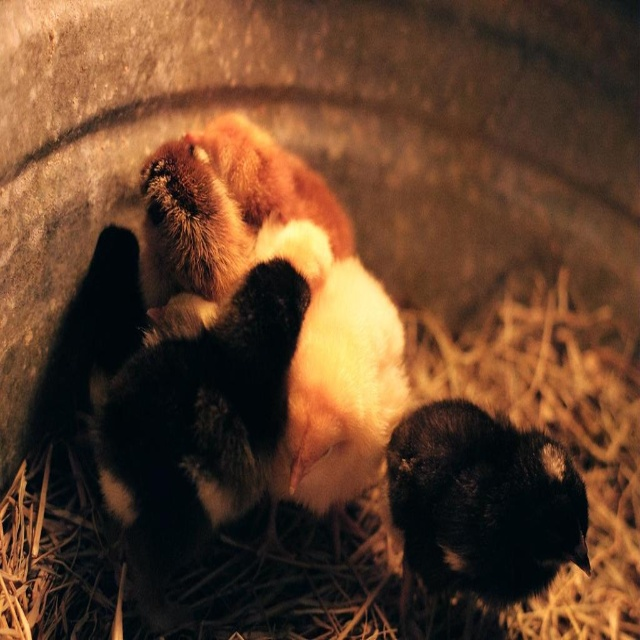Chicken: (386, 388, 585, 640)
